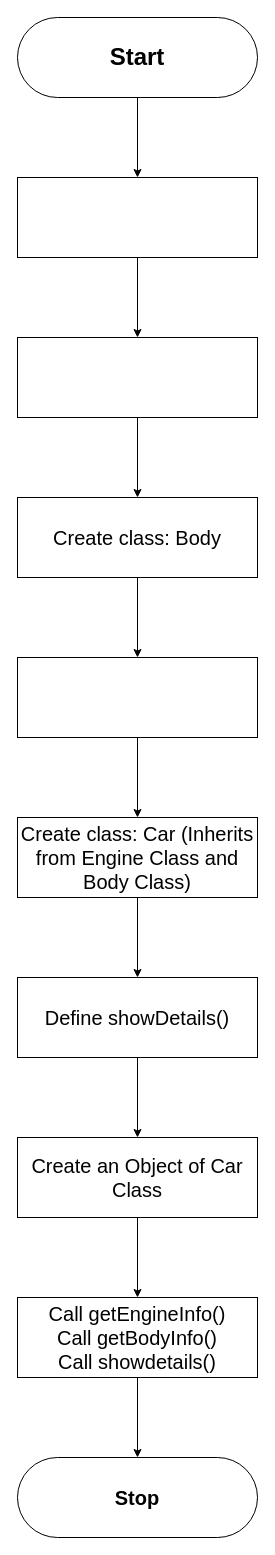
This 275x1555 diagram has some shape labels left out. Here are the shapes that lost their labels. From the top down, the centre of each, then its label:
point 137,217: Create class: Engine
point 137,377: Define getEngineInfo()
point 137,697: Define getBodyInfo()
